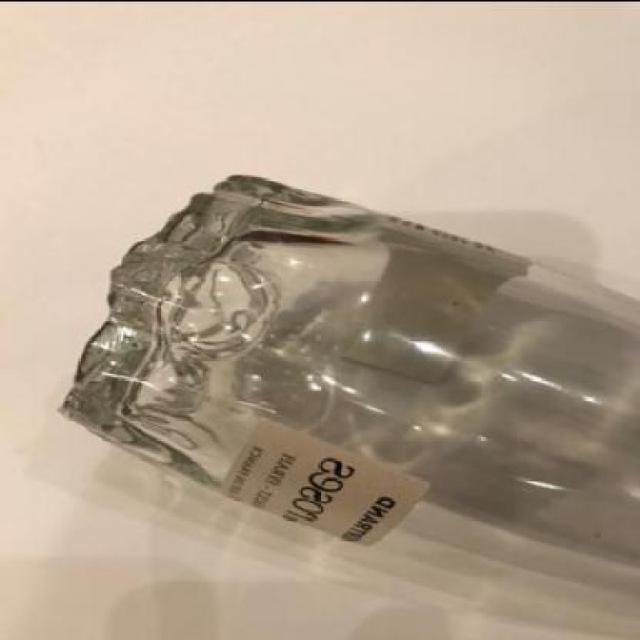GLASS: (56, 172, 638, 591)
